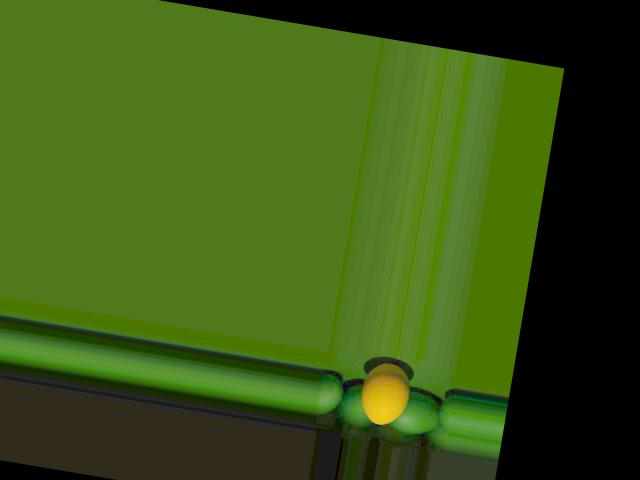egg: (357, 358, 414, 427)
